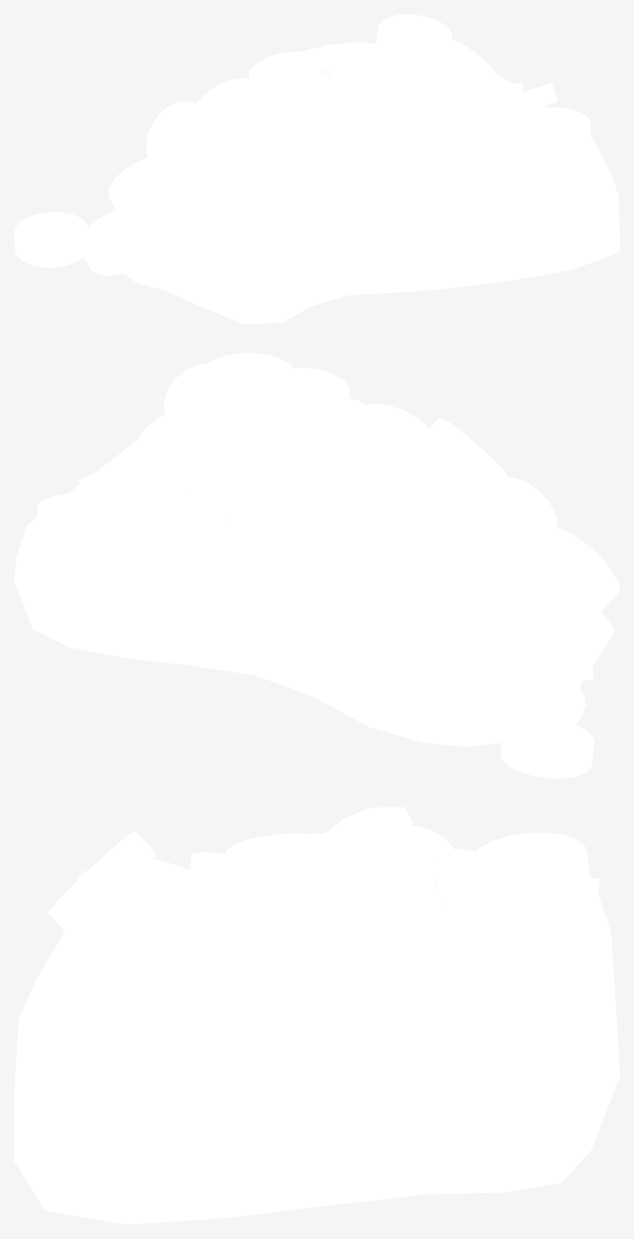
File: treature1.gltf
The picture shows the model from 3 angles, top to bottom: view 1: azimuth 30°, elevation 25°; view 2: azimuth 150°, elevation 25°; view 3: azimuth 270°, elevation 25°; orthographic projection. The views are drawn at different scales.
Visible parts, largest first — view 1: treasure1_coin, treasure1; view 2: treasure1_coin, treasure1; view 3: treasure1, treasure1_coin.
Part boxes in pixels (x1,y1,x2,y2): treasure1_coin: [14, 14, 590, 317]; treasure1: [123, 70, 619, 324]; treasure1_coin: [37, 353, 619, 778]; treasure1: [14, 440, 614, 746]; treasure1: [14, 893, 619, 1224]; treasure1_coin: [48, 807, 608, 1049].
Bounding box in the file's own units: 86.07 × 28.25 × 59.79.
Materials: 1 (1 with a texture image).
